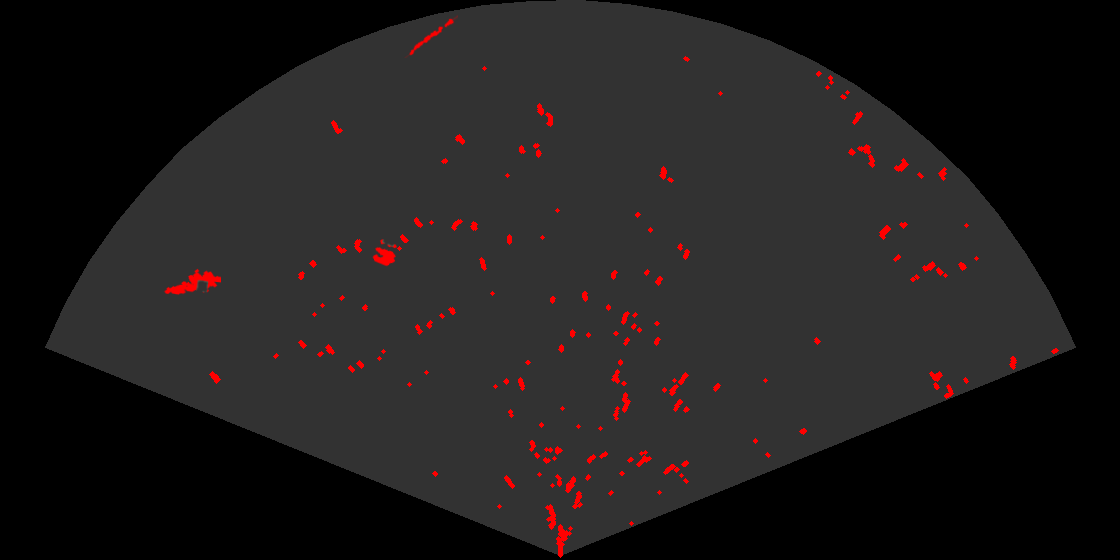ball: (371, 237, 399, 268)
chain: (403, 13, 458, 58)
frogman: (163, 267, 221, 296)
